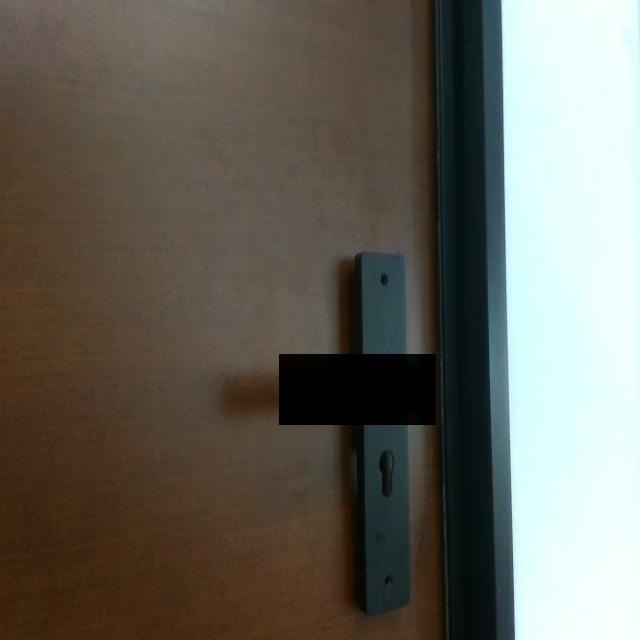doorhandle: (279, 354, 436, 425)
